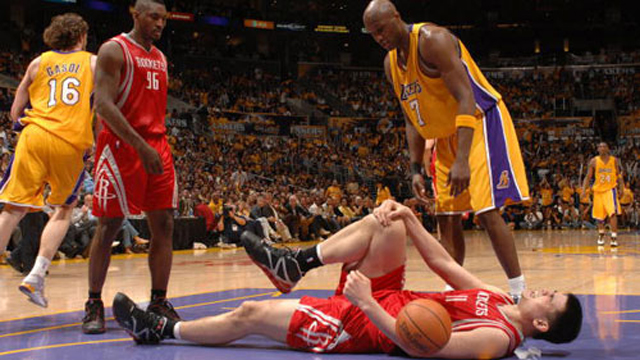10+: (1, 1, 639, 356)
down: (113, 195, 595, 350)
